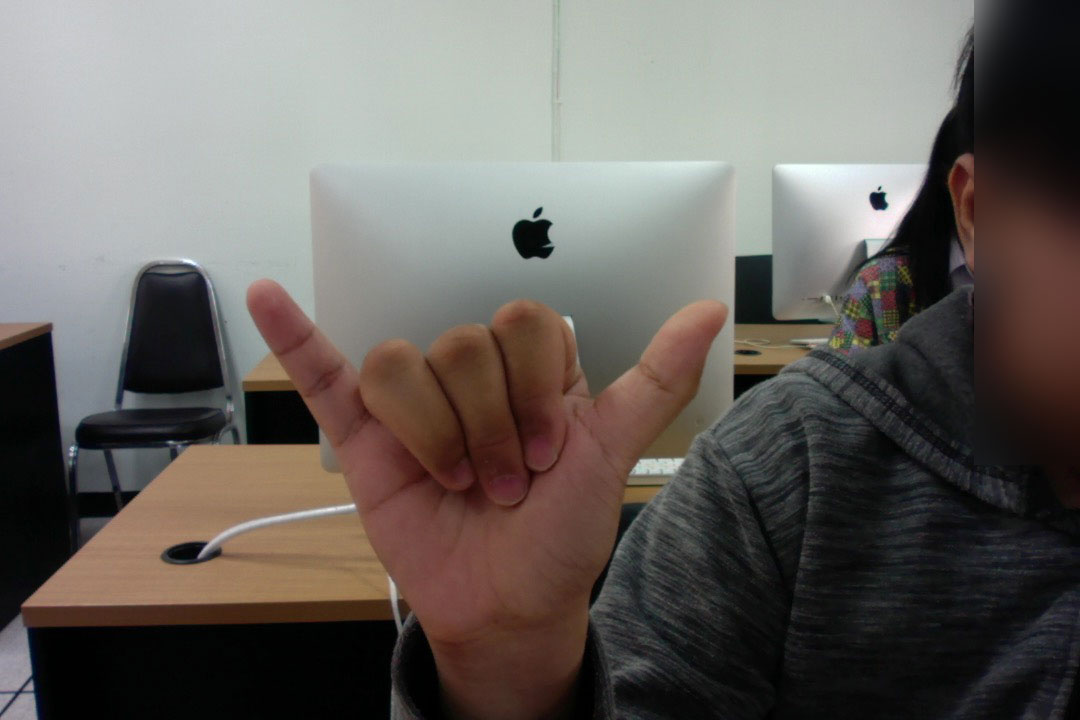yor: (238, 270, 738, 649)
